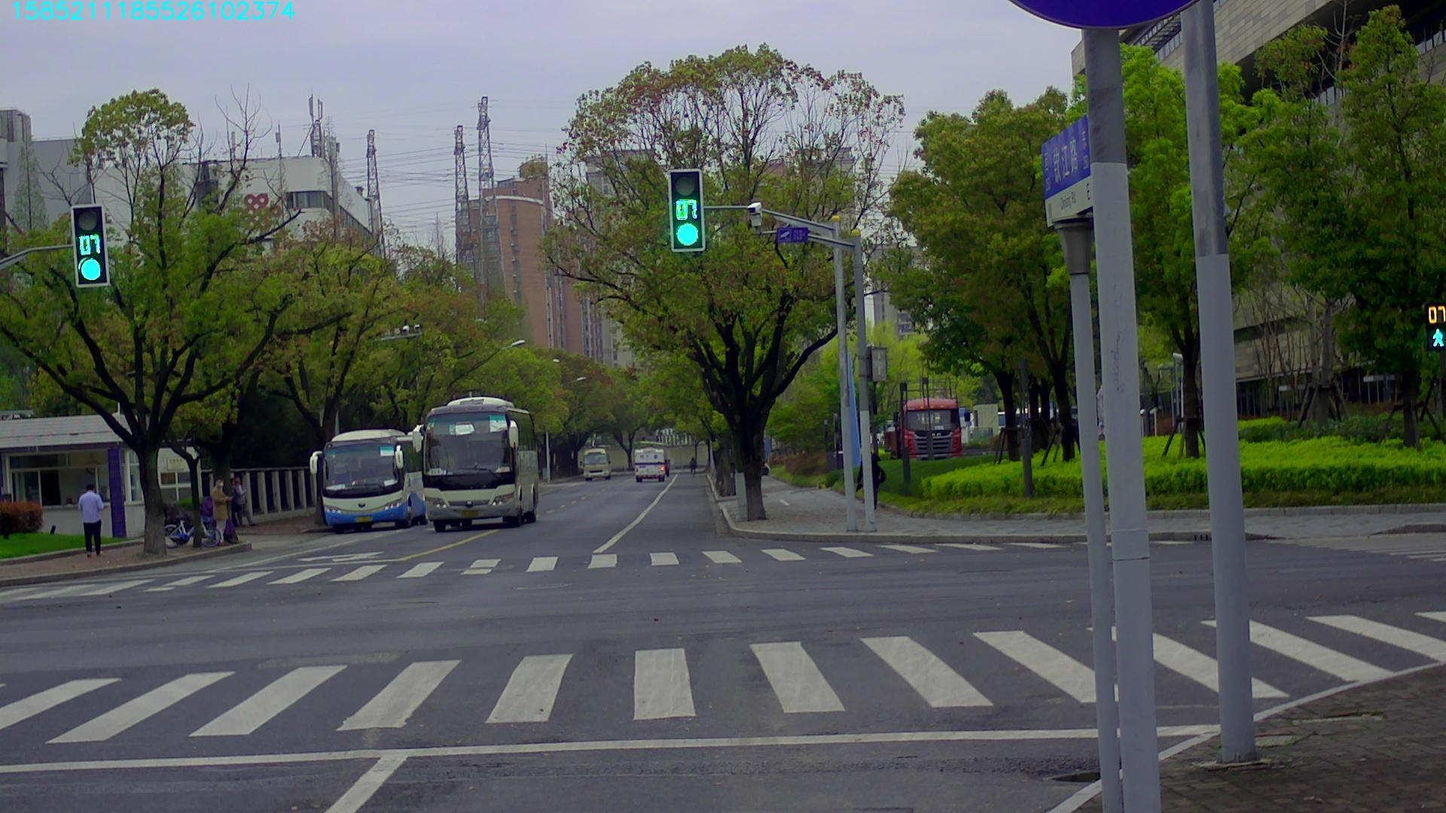green: (72, 204, 107, 285), (669, 169, 702, 250)
